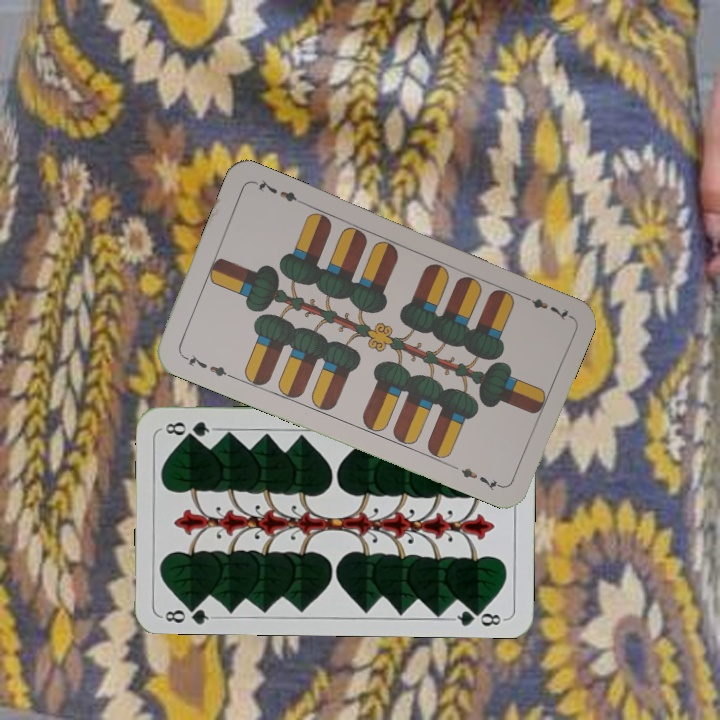E7: (516, 290, 572, 323), (178, 351, 235, 381)
G8: (158, 599, 217, 626)
